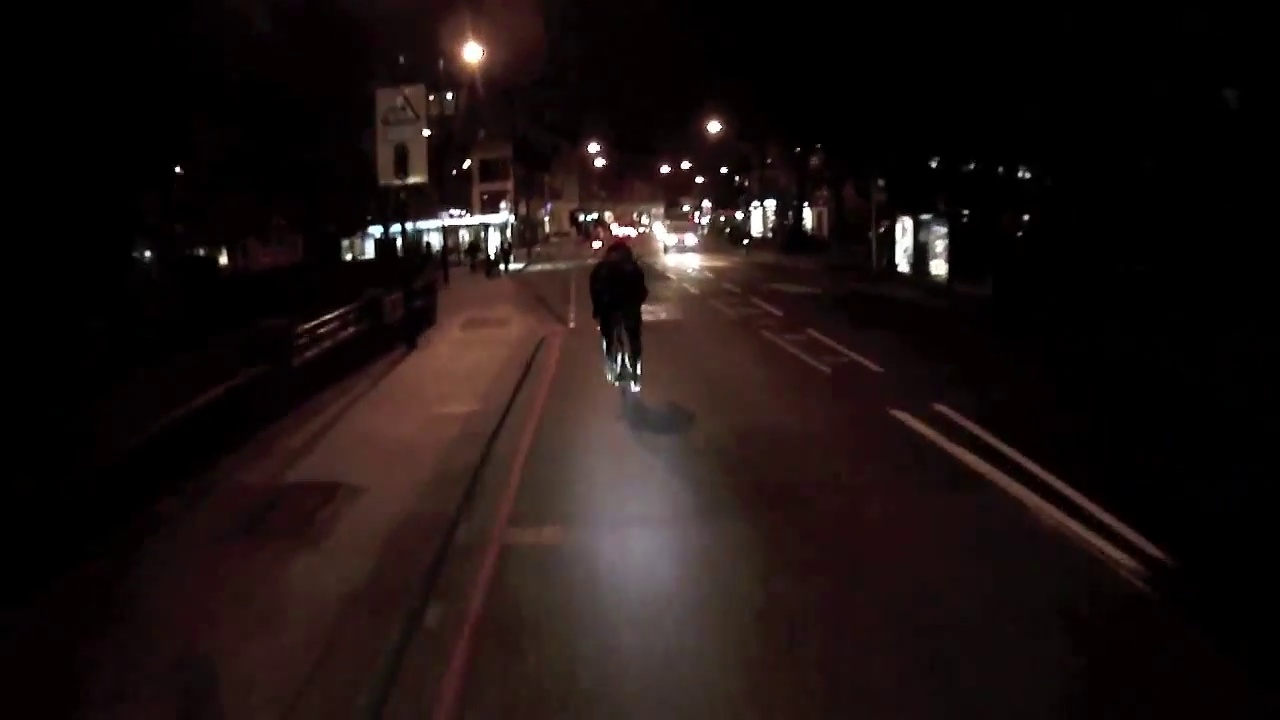cyclist_back: (585, 235, 660, 413)
